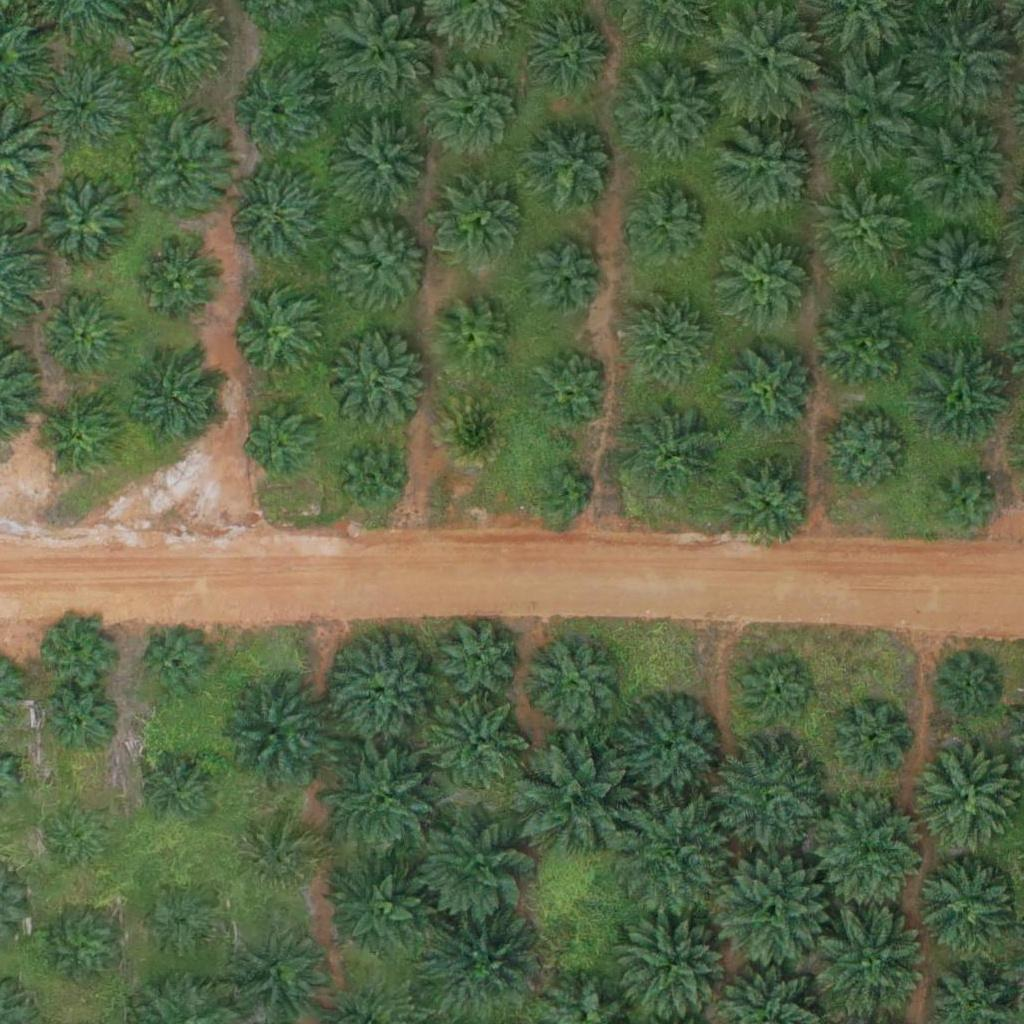Kelapa_Sawit: (212, 672, 337, 798), (319, 733, 444, 859), (414, 803, 539, 929), (511, 736, 636, 862), (614, 795, 739, 921), (812, 795, 925, 908), (715, 851, 827, 965), (810, 54, 922, 167), (708, 3, 820, 116), (329, 5, 441, 118), (328, 855, 440, 968), (427, 908, 539, 1021), (710, 736, 822, 849), (916, 119, 1016, 220), (910, 227, 1010, 328), (911, 349, 1011, 450), (817, 176, 917, 277), (816, 293, 916, 394), (715, 118, 815, 219), (714, 234, 814, 335), (618, 62, 718, 163), (128, 349, 228, 450), (329, 636, 429, 737), (917, 745, 1017, 846), (916, 860, 1016, 961), (717, 451, 817, 551), (623, 401, 723, 501), (423, 58, 523, 158), (131, 129, 231, 229), (333, 215, 433, 315), (329, 333, 429, 433), (428, 693, 528, 793), (618, 699, 718, 799), (38, 391, 126, 480), (822, 407, 910, 495), (436, 178, 524, 266), (36, 61, 124, 149), (38, 178, 126, 266), (339, 118, 427, 206), (140, 239, 228, 327), (41, 290, 129, 378), (40, 904, 128, 992), (727, 347, 814, 435), (621, 178, 708, 266), (623, 290, 710, 378), (520, 8, 607, 96), (526, 127, 613, 215), (242, 67, 329, 155), (233, 173, 320, 261), (239, 292, 326, 380), (237, 927, 324, 1015), (434, 614, 521, 702), (528, 640, 615, 728), (436, 303, 511, 379), (526, 242, 601, 318), (739, 657, 814, 733), (928, 466, 1003, 542), (533, 351, 608, 427), (437, 392, 512, 468), (335, 441, 410, 517), (243, 820, 318, 895), (836, 701, 911, 776), (245, 400, 320, 475), (35, 611, 110, 686), (39, 689, 114, 764), (137, 626, 212, 701), (140, 756, 215, 831), (146, 886, 221, 961), (937, 655, 1000, 718), (535, 464, 597, 527), (45, 808, 107, 871)
